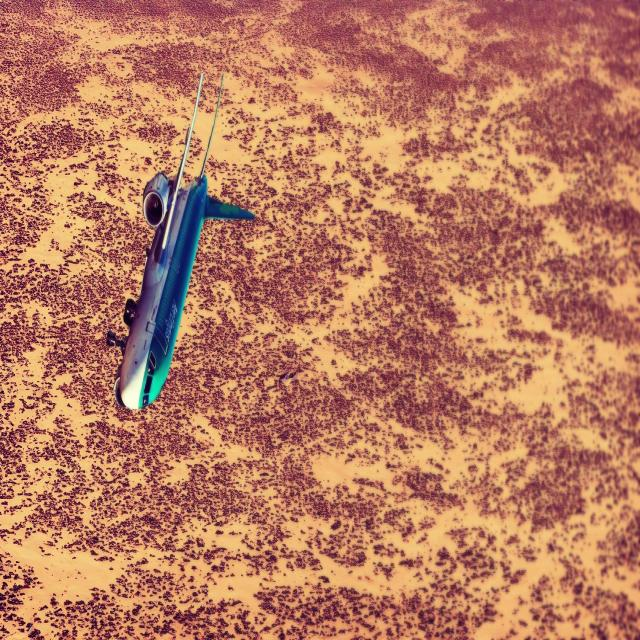airplane: (107, 71, 256, 411)
